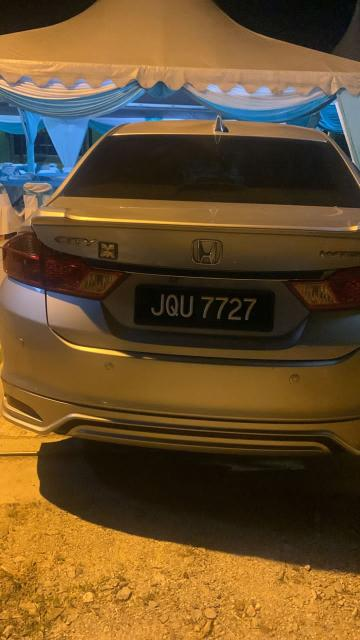License_Plate: (135, 284, 270, 334)
car: (1, 115, 360, 478)
